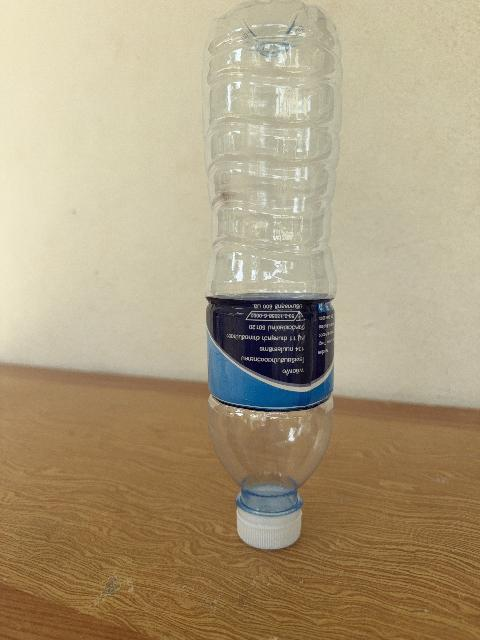bottle: (204, 0, 341, 548)
